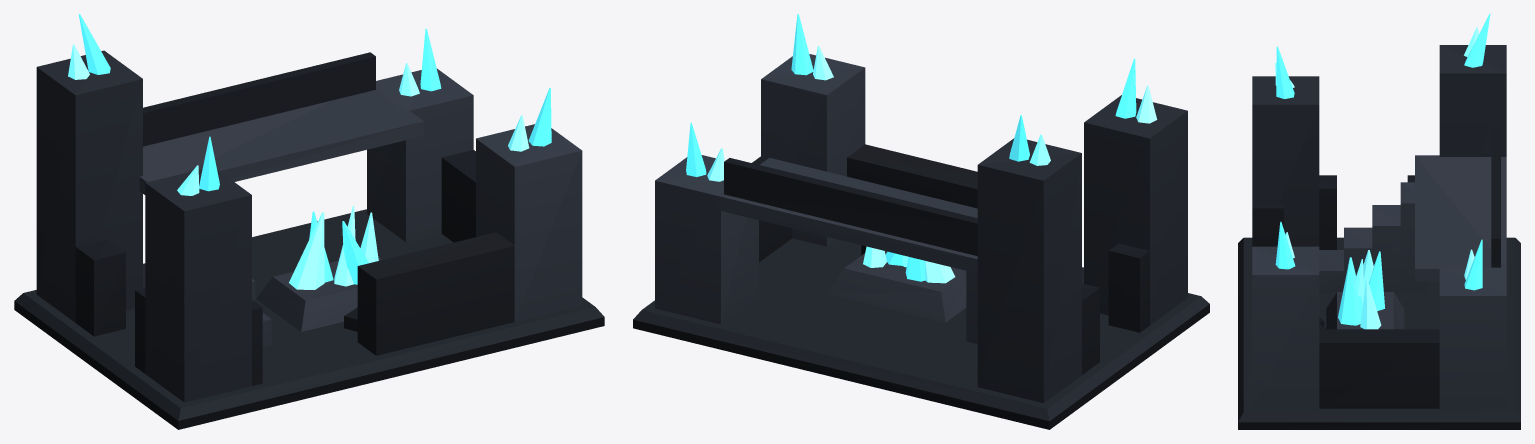
Rendered from crystal-cavern.glb.
The picture shows the model from 3 angles, left to right: view 1: azimuth 30°, elevation 25°; view 2: azimuth 150°, elevation 25°; view 3: azimuth 270°, elevation 25°; orthographic projection. The views are drawn at different scales.
Size of the model in its own units: 6 by 4 by 4.
